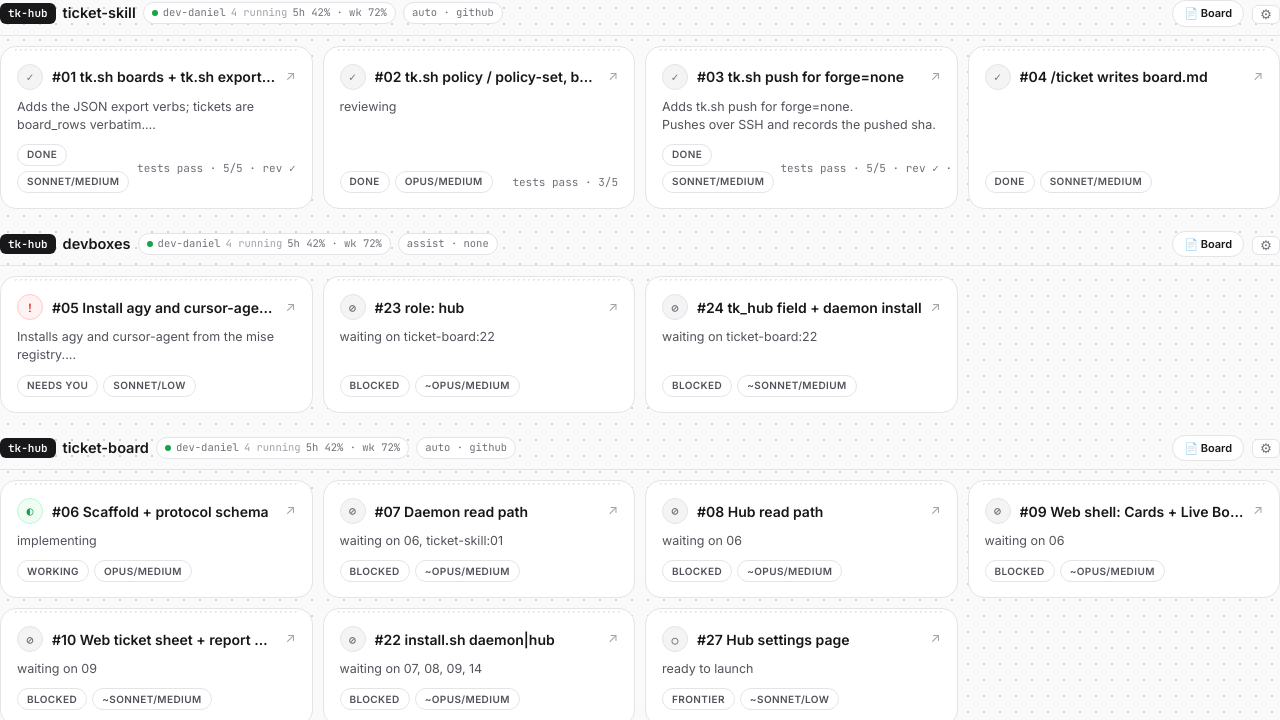
Test case: Retro and sweep › Sweep lists what it removed and what it skipped
This screenshot has width=1280, height=720.
Click the 1st button "📄 Board": (1208, 13) [1172,0,1244,26]
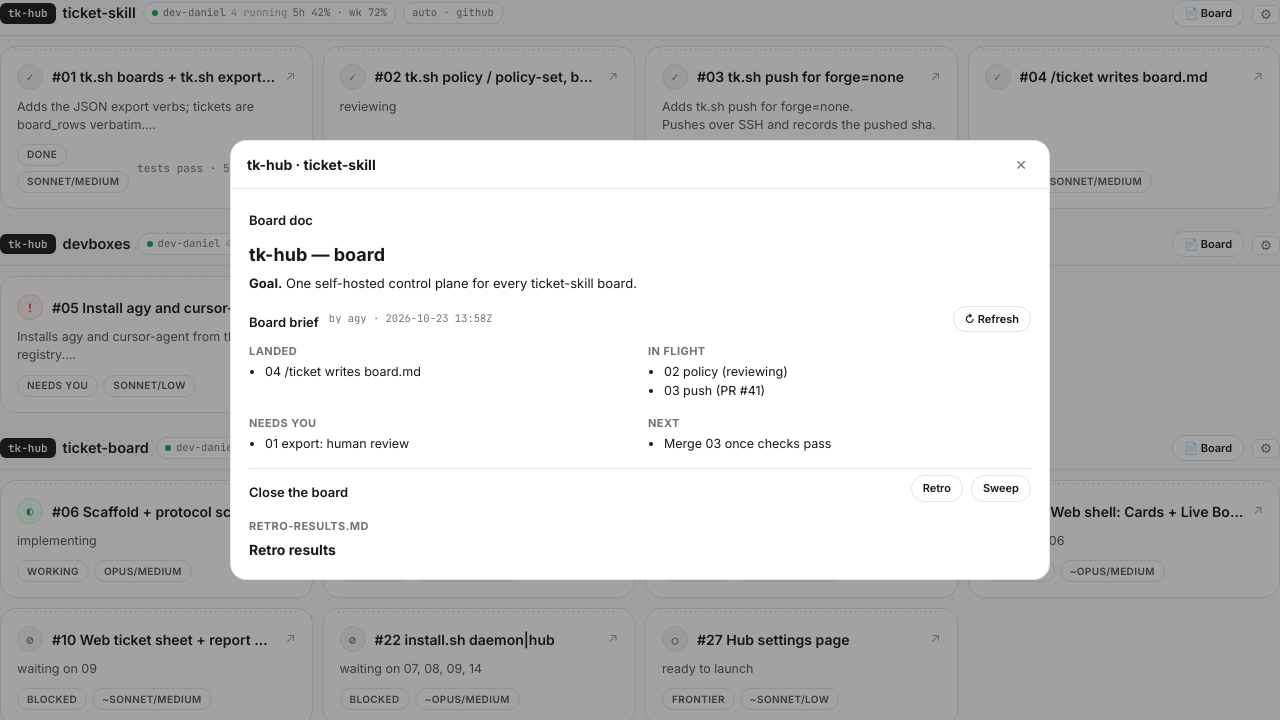
Click the button "Sweep": (1001, 489) [971,475,1031,502]
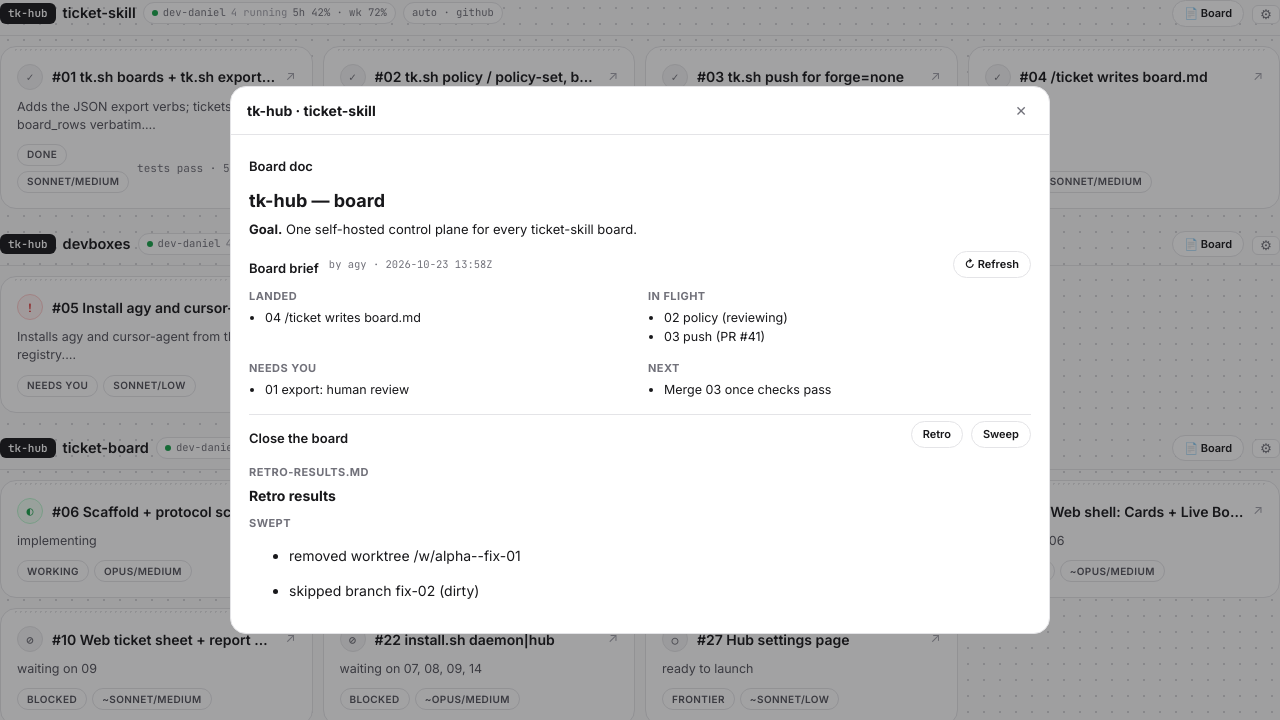
Check: the list item "removed worktree /w/alpha--fix-01" is shown, box [289,547,521,564]
Check: the list item "skipped branch fix-02 (dirty)" is shown, box [289,582,479,599]
